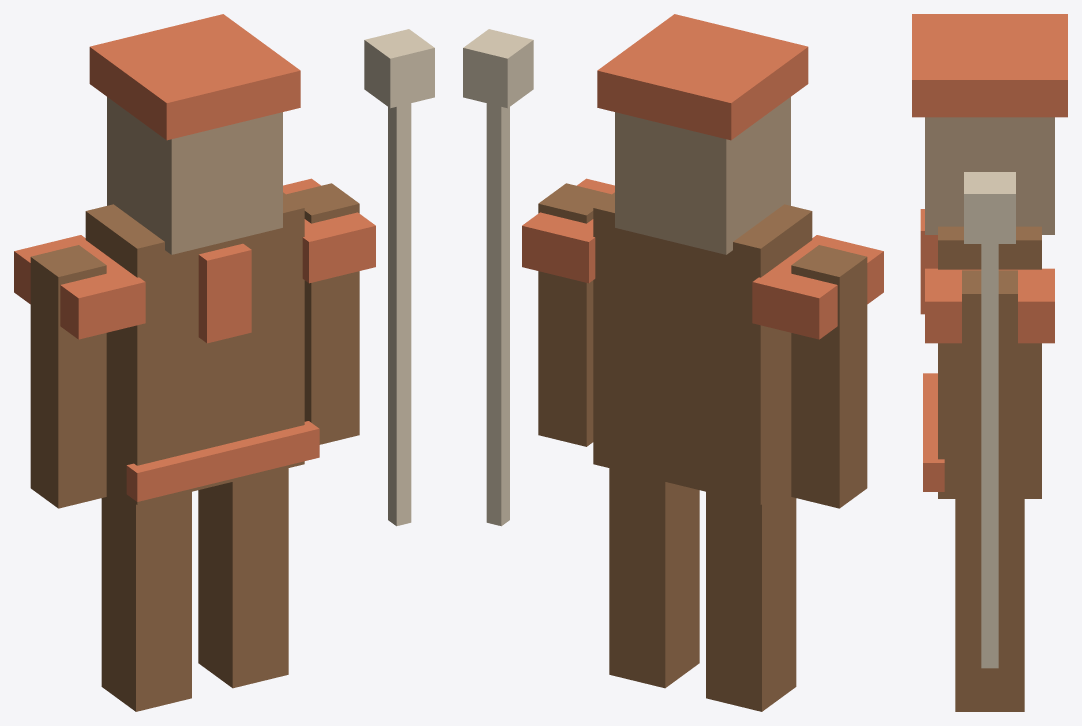
File: 09_talia_nullborne_oracle_near_sonic.glb
3 views of the same model, side by side, from view 1: azimuth 30°, elevation 25°; view 2: azimuth 150°, elevation 25°; view 3: azimuth 270°, elevation 25° (orthographic).
Visible parts, largest first — view 1: Talia Nullborne, Oracle near Sonic; view 2: Talia Nullborne, Oracle near Sonic; view 3: Talia Nullborne, Oracle near Sonic.
Part boxes in pixels (x1=…): Talia Nullborne, Oracle near Sonic: x1=14, y1=14, x2=434, y2=711; Talia Nullborne, Oracle near Sonic: x1=463, y1=14, x2=883, y2=711; Talia Nullborne, Oracle near Sonic: x1=912, y1=14, x2=1067, y2=711.
Bounding box in the file's own units: 0.9942 × 1.57 × 0.3526.
